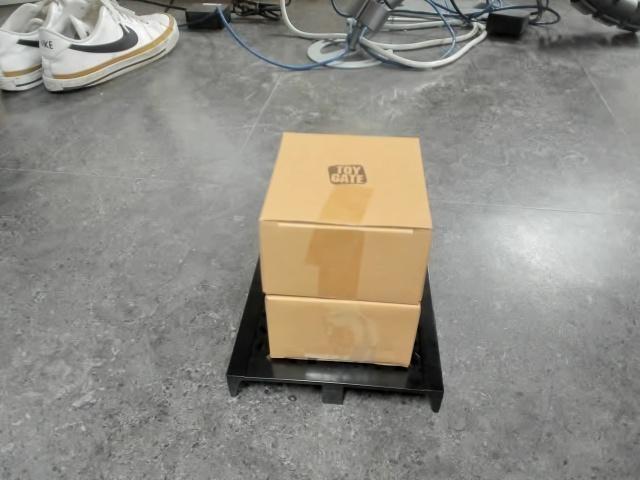box: (225, 131, 447, 414)
